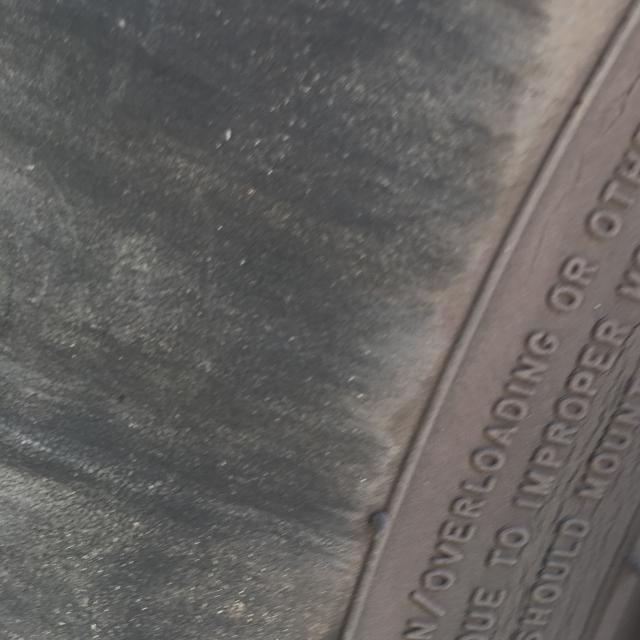Cracks: (462, 33, 640, 640)
